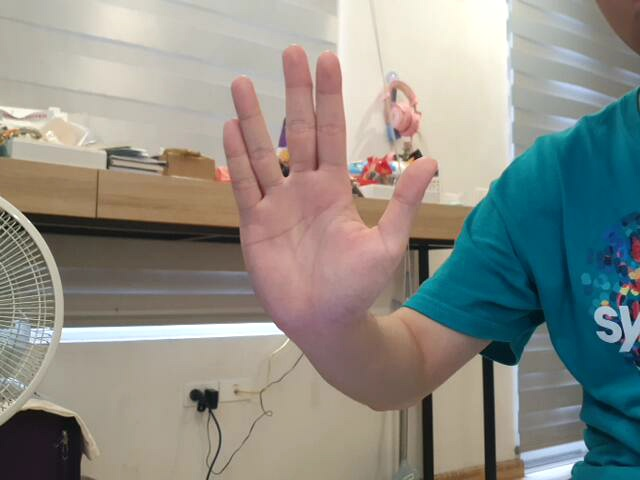LiveLong: (219, 43, 442, 342)
